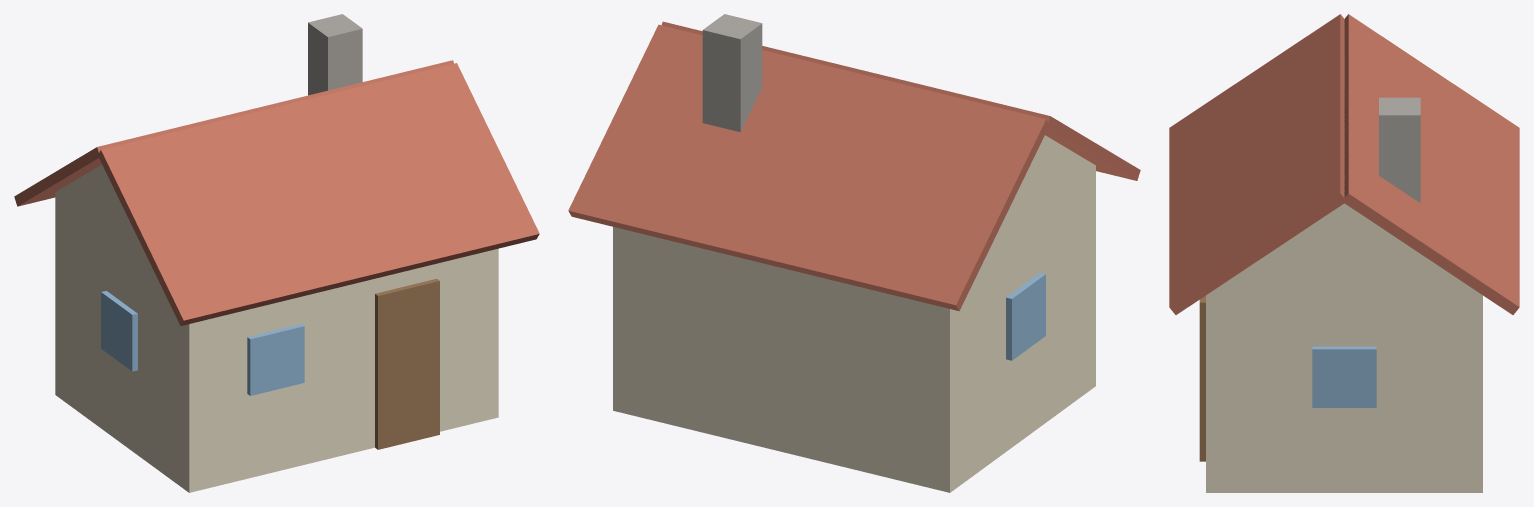
Rendered from house.glb.
3 views of the same model, side by side, from view 1: azimuth 30°, elevation 25°; view 2: azimuth 150°, elevation 25°; view 3: azimuth 270°, elevation 25° (orthographic). The views are drawn at different scales.
Parts seen in each view (by area): view 1: House; view 2: House; view 3: House.
Boxes of the visible parts, <box> form: House: <box>14,14,539,492</box>; House: <box>568,14,1140,492</box>; House: <box>1169,14,1519,492</box>.
Bounding box in the file's own units: 4.6 × 4.2 × 3.8.
